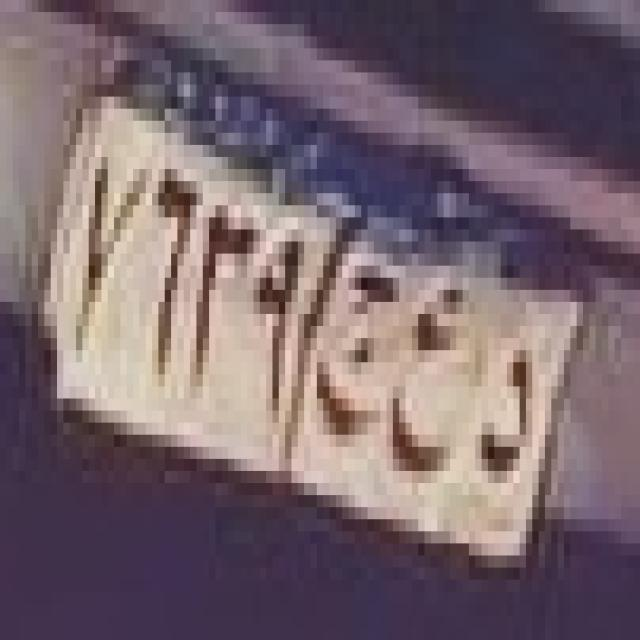3: (185, 198, 251, 398)
6: (138, 160, 202, 386)
7: (67, 152, 154, 353)
9: (243, 224, 304, 418)
Een: (381, 264, 469, 482)
daal: (481, 330, 542, 490)
geem: (312, 226, 399, 448)
